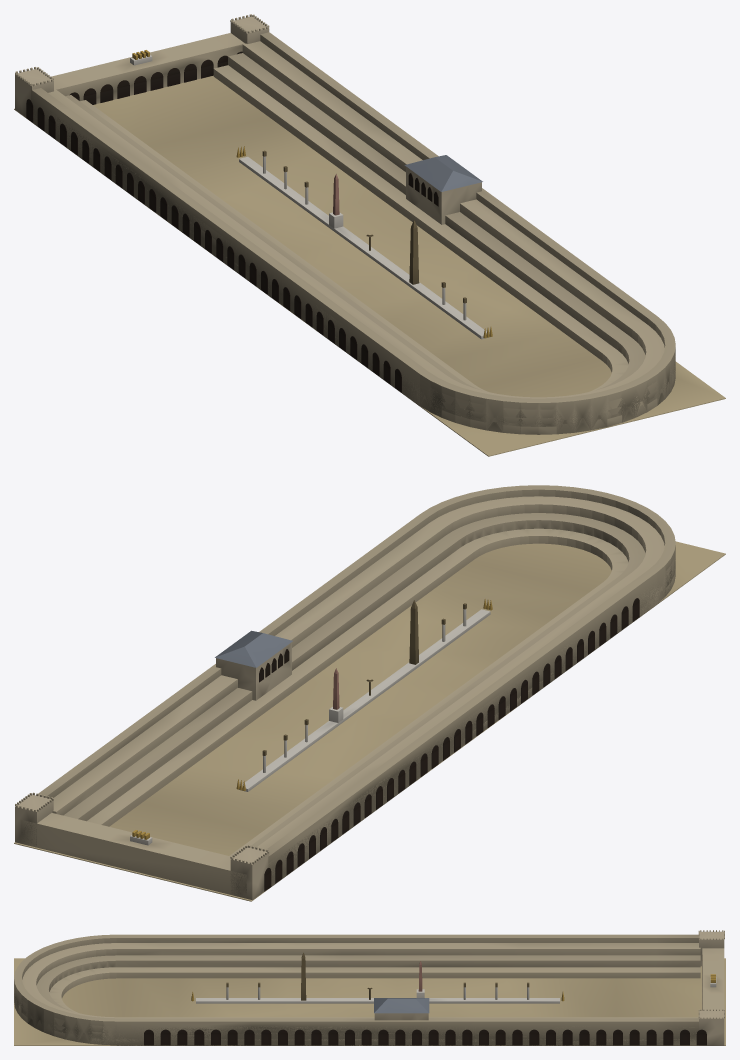
Rendered from hippodrome.glb.
3 renders of one model, top to bottom at view 1: azimuth 30°, elevation 25°; view 2: azimuth 150°, elevation 25°; view 3: azimuth 270°, elevation 25°, orthographic. The views are drawn at different scales.
Parts seen in each view (by area): view 1: p0_seating, p1_gates, p2_monuments; view 2: p0_seating, p1_gates, p2_monuments; view 3: p0_seating, p1_gates, p2_monuments.
Boxes of the visible parts, x1,y1,x2,y2 form: p0_seating: (14,32,725,456); p1_gates: (15,14,482,224); p2_monuments: (236,146,492,339); p0_seating: (14,485,725,901); p1_gates: (15,630,292,899); p2_monuments: (236,599,492,791); p0_seating: (14,934,725,1045); p1_gates: (374,930,724,1045); p2_monuments: (191,952,564,1003).
Size of the model in its own units: 131 by 35.09 by 450.
